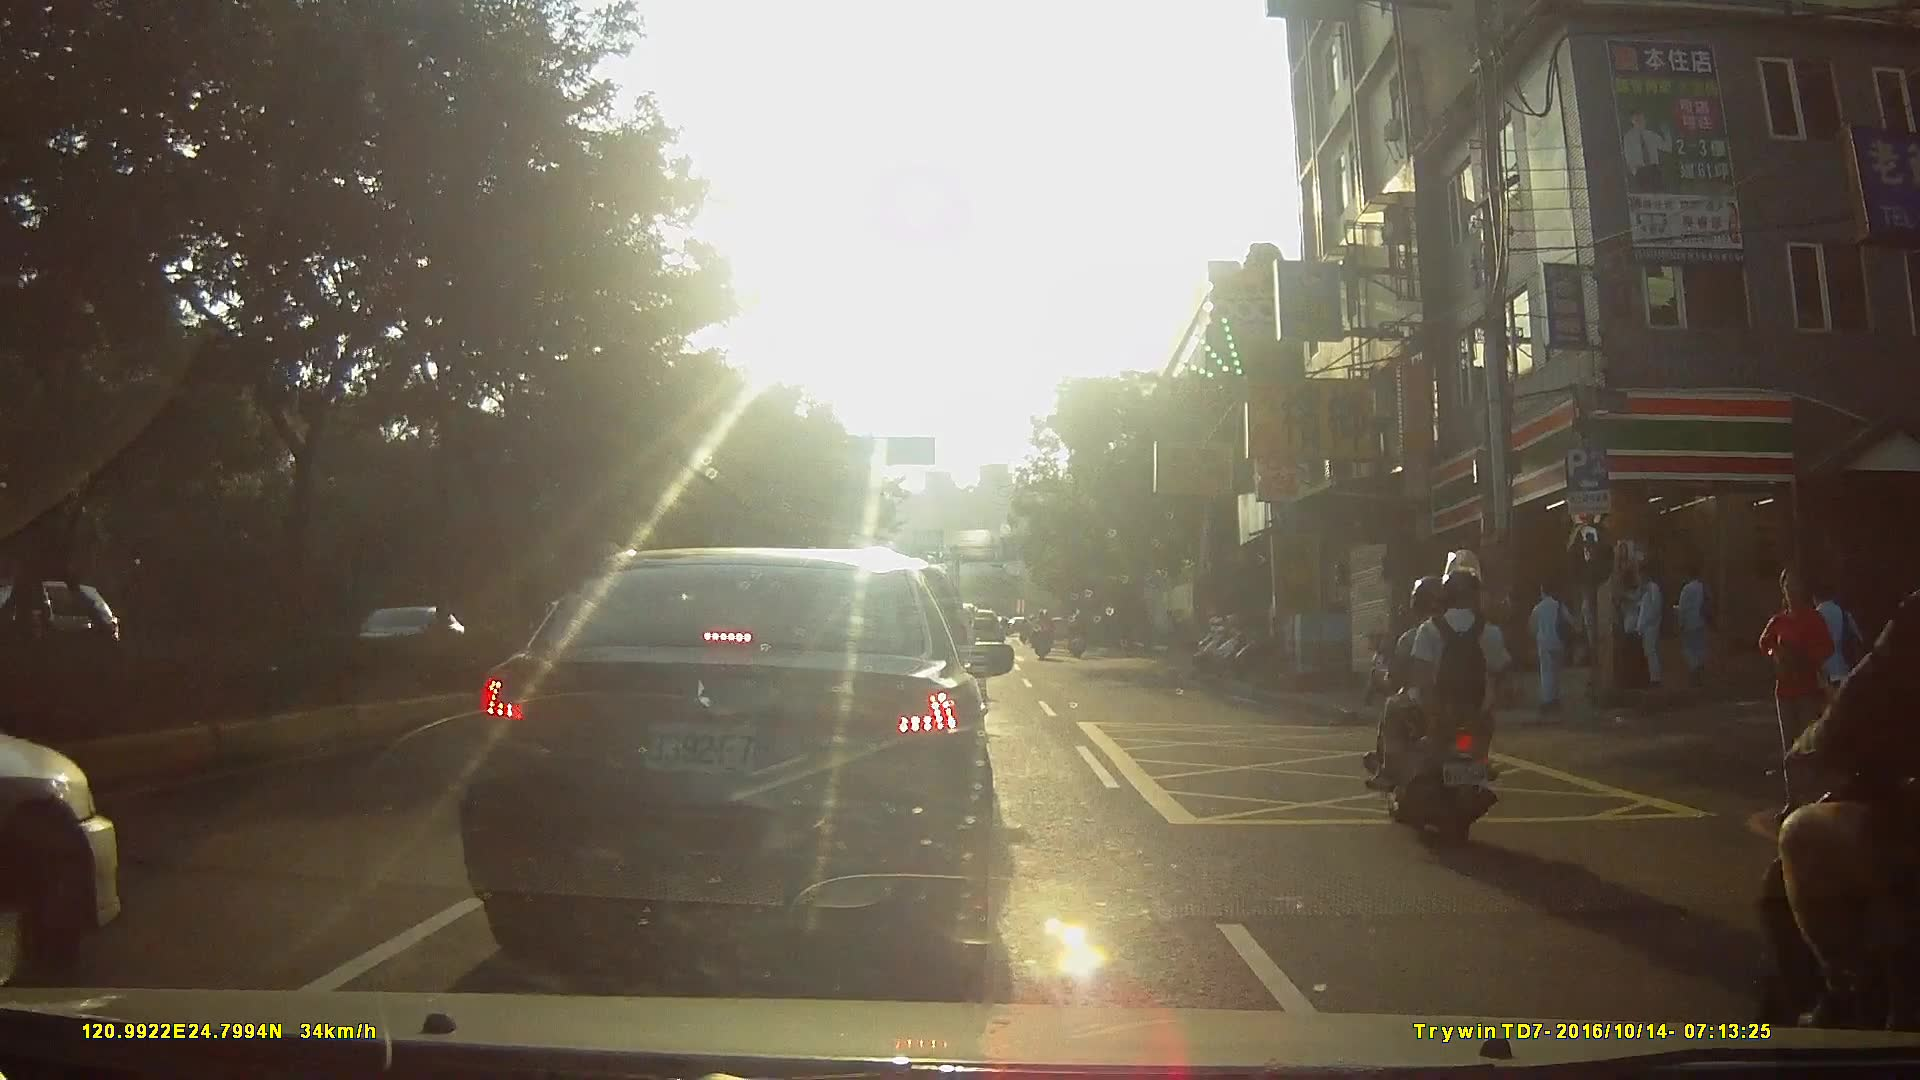pedestrian: (1759, 567, 1835, 825), (1794, 584, 1870, 780), (1620, 565, 1663, 690), (1678, 565, 1721, 681), (1613, 567, 1642, 698)
rider: (1759, 440, 1920, 1080), (1369, 548, 1520, 848), (1034, 607, 1055, 663), (1066, 613, 1088, 662)
vehicle: (458, 537, 1042, 970), (9, 578, 127, 688)
